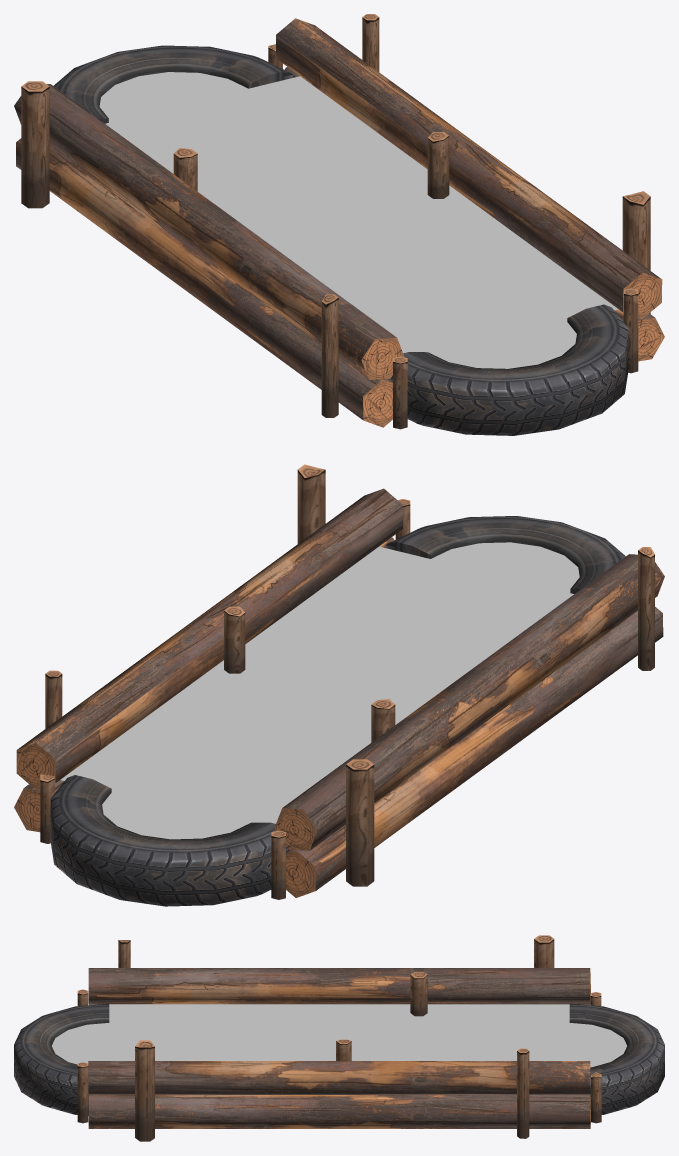
File: raisedBed08.fbx
The picture shows the model from 3 angles, top to bottom: view 1: azimuth 30°, elevation 25°; view 2: azimuth 150°, elevation 25°; view 3: azimuth 270°, elevation 25°; orthographic projection. The views are drawn at different scales.
Parts seen in each view (by area): view 1: raisedBed08; view 2: raisedBed08; view 3: raisedBed08.
Boxes of the visible parts, x1,y1,x2,y2 form: raisedBed08: (14,14,664,435); raisedBed08: (14,464,664,906); raisedBed08: (14,935,664,1141).
Size of the model in its own units: 172 by 62.62 by 389.
